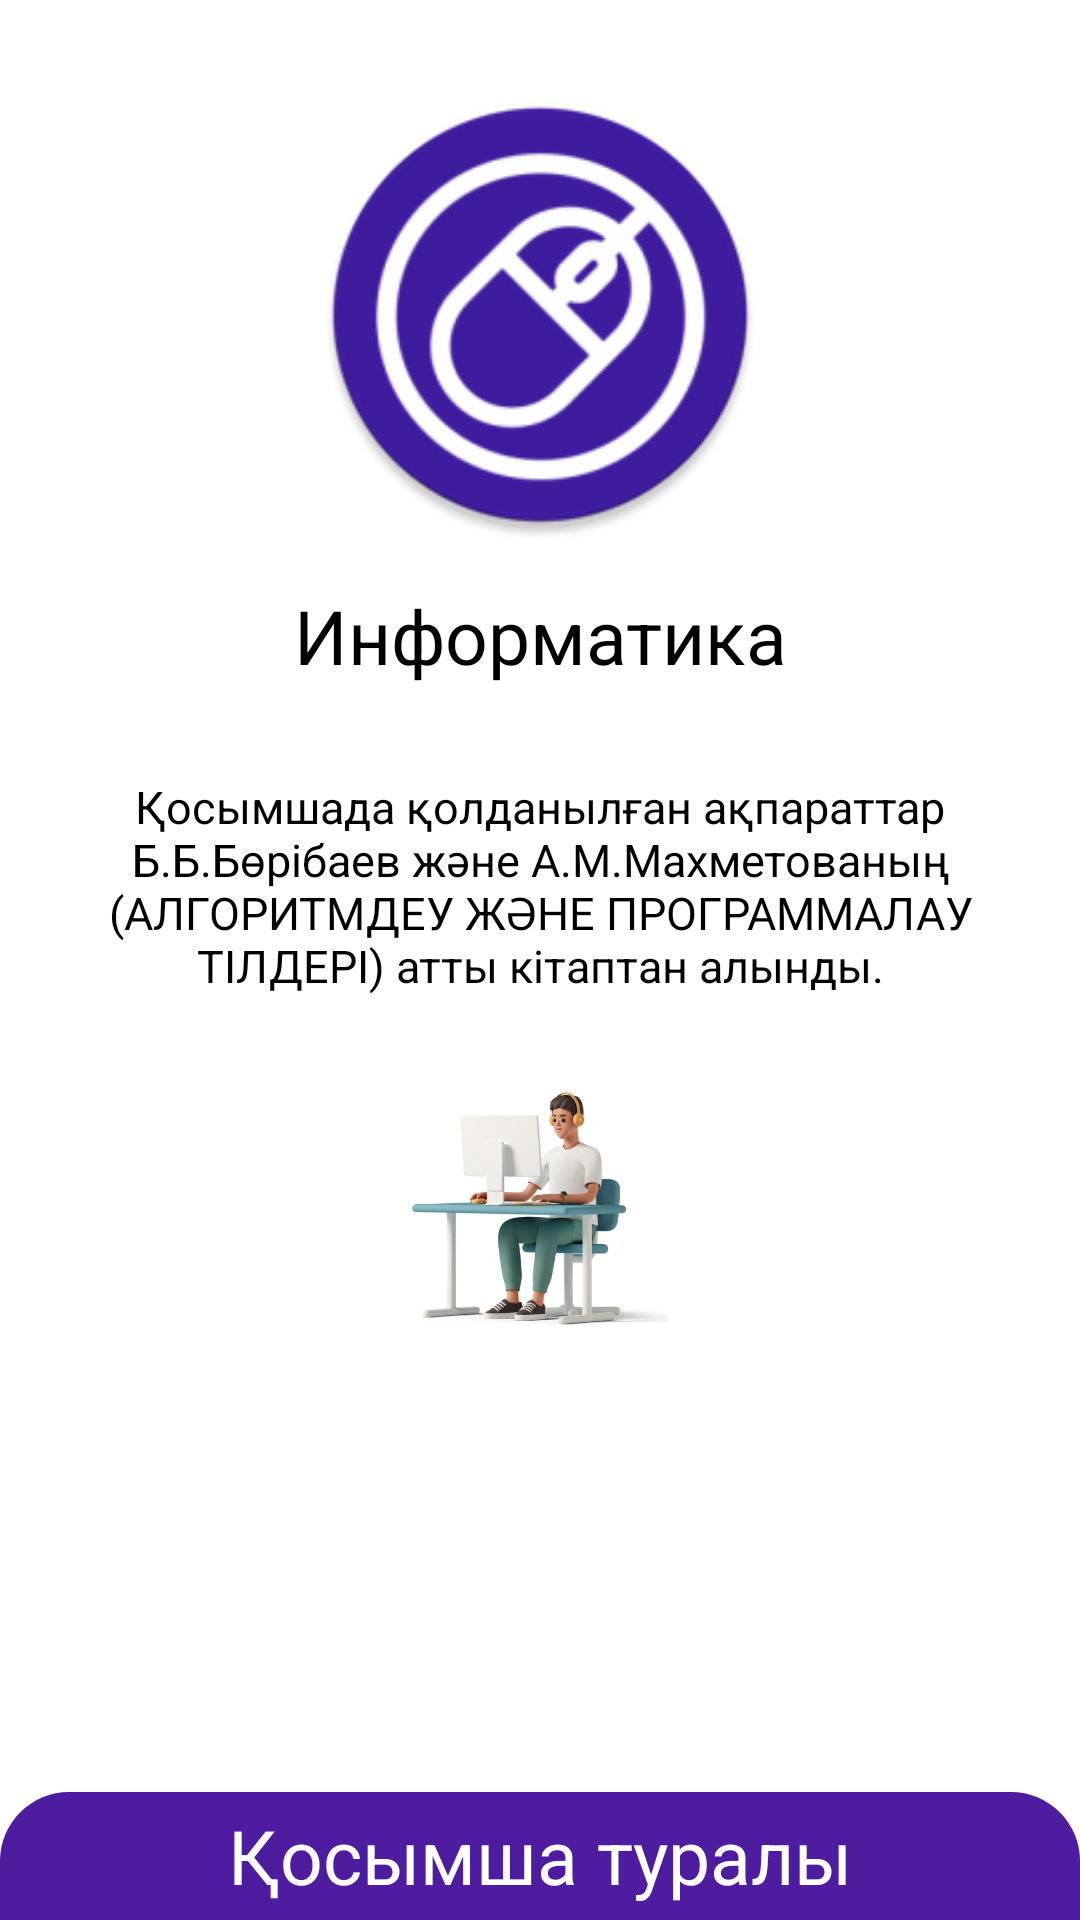

Where to tap for icons on this 1080px x 1920px app screen, as (x=x, y=y):
computer: (x=530, y=1208)
